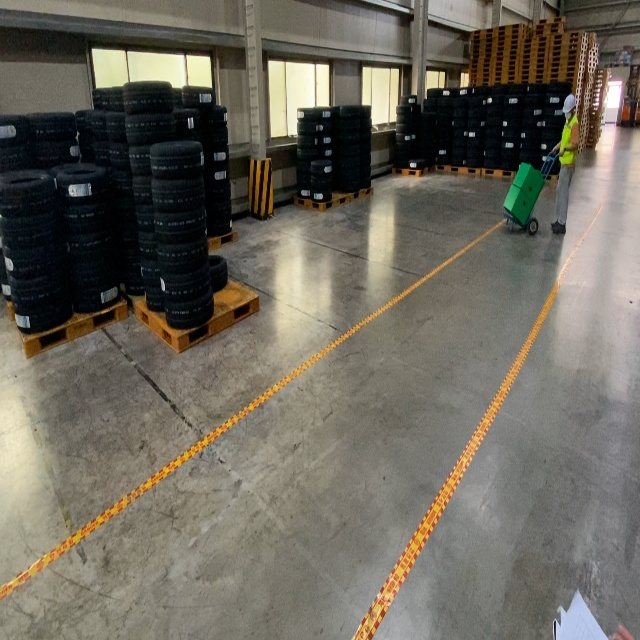Box: (513, 162, 545, 203), (503, 185, 534, 227)
Worker: (551, 95, 579, 234)
